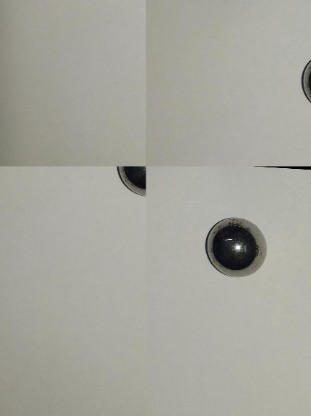ironball: (206, 214, 268, 278), (111, 163, 145, 200), (296, 53, 309, 104)
